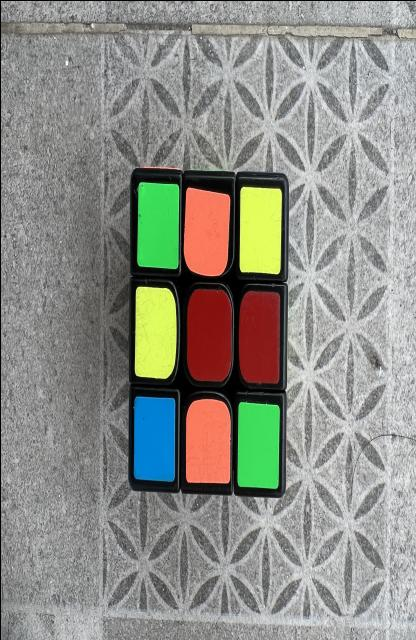Blue: (132, 395, 175, 482)
Green: (236, 402, 279, 488), (136, 182, 179, 268)
Orange: (183, 187, 229, 275), (185, 398, 230, 483)
Red: (186, 288, 231, 380), (238, 290, 280, 383)
Yellow: (134, 285, 176, 378), (239, 185, 281, 273)
